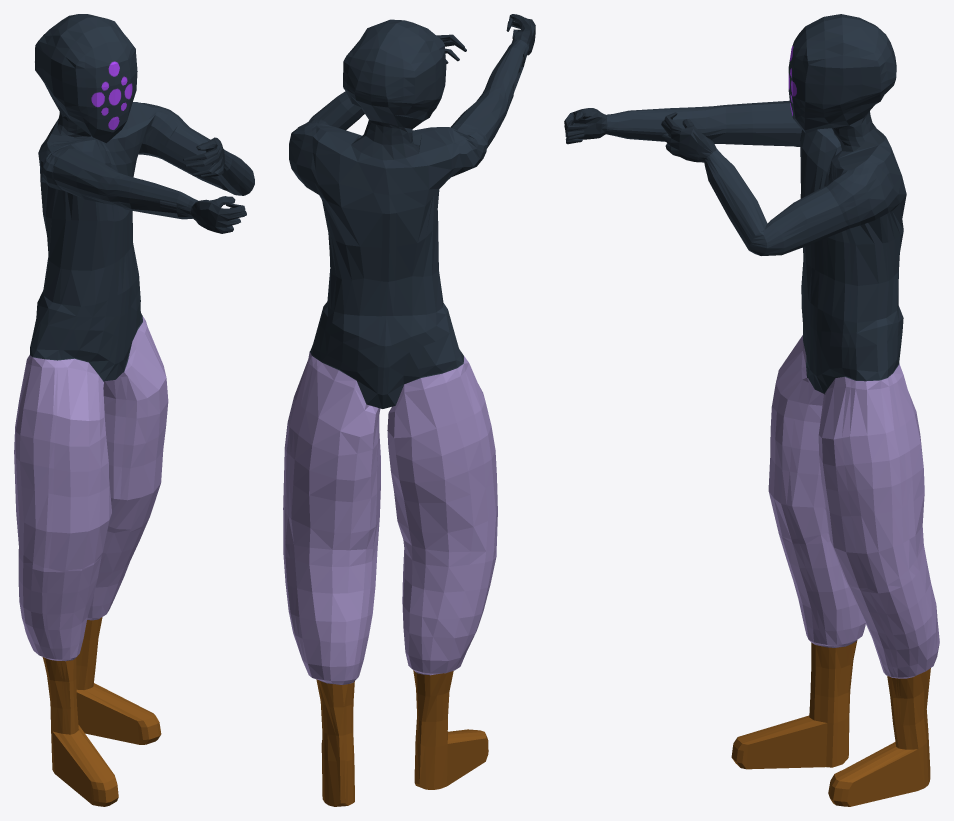
The model's file is Oracle_Attack_000012.obj.
3 views of the same model, side by side, from view 1: azimuth 30°, elevation 25°; view 2: azimuth 150°, elevation 25°; view 3: azimuth 270°, elevation 25° (orthographic). The views are drawn at different scales.
Parts seen in each view (by area): view 1: Cube; view 2: Cube; view 3: Cube.
Part boxes in pixels (left/top/right/bottom): Cube: left=14, top=14, right=254, bottom=806; Cube: left=283, top=14, right=535, bottom=806; Cube: left=564, top=14, right=939, bottom=806.
Size of the model in its own units: 1.15 by 3.94 by 1.76.
